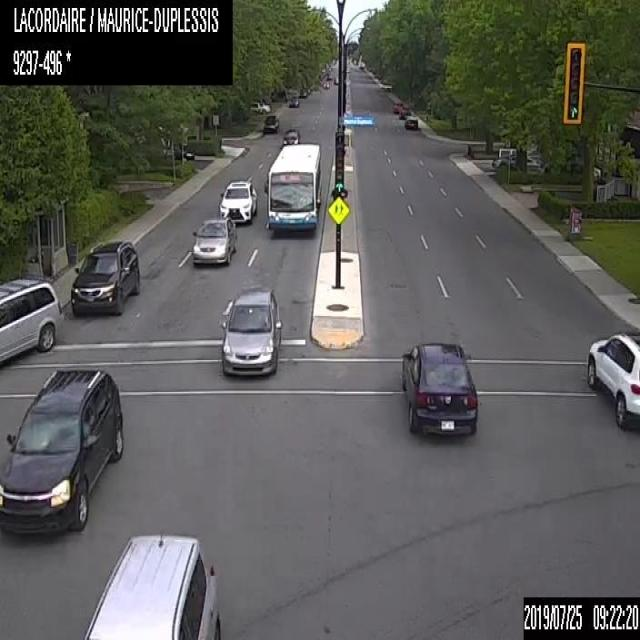bus: (262, 143, 322, 235)
vehicle: (0, 362, 125, 542), (80, 529, 220, 639), (398, 338, 478, 438), (218, 287, 283, 381), (0, 273, 62, 371), (68, 239, 140, 316), (584, 328, 639, 427), (192, 217, 234, 265), (218, 180, 258, 222), (490, 155, 536, 168), (169, 142, 195, 161), (262, 112, 279, 133), (248, 100, 270, 114), (282, 130, 300, 144), (404, 115, 419, 131), (392, 101, 403, 113), (288, 95, 298, 108), (399, 108, 410, 119), (298, 85, 307, 96), (322, 81, 328, 88), (326, 72, 332, 79), (334, 75, 337, 83)
